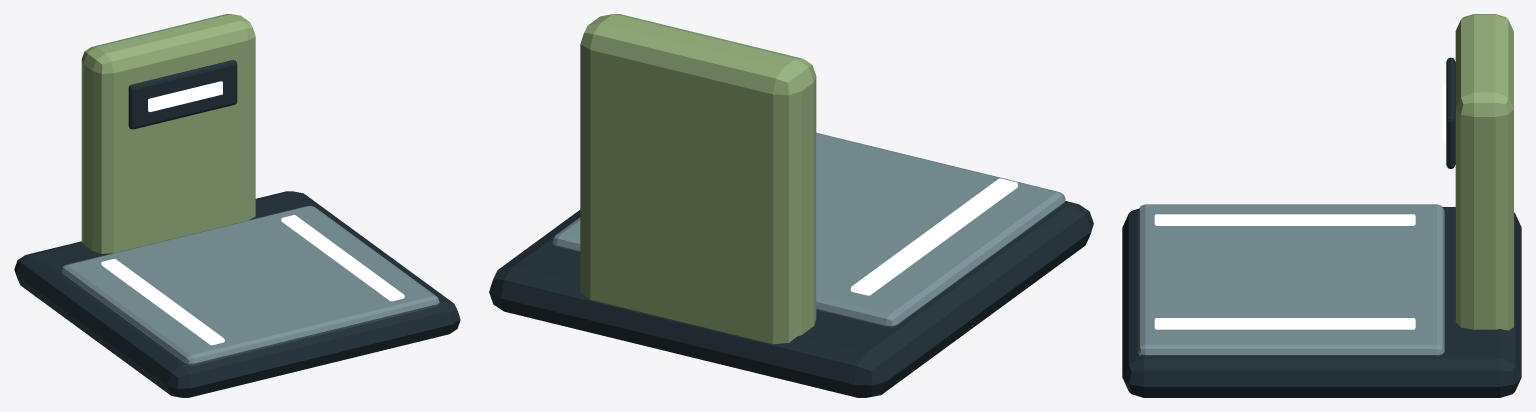
Rendered from prop_charging_dock.glb.
3 renders of one model, left to right at view 1: azimuth 30°, elevation 25°; view 2: azimuth 150°, elevation 25°; view 3: azimuth 270°, elevation 25°, orthographic. The views are drawn at different scales.
Parts seen in each view (by area): view 1: dock_pillar, dock_surface, dock_base, dock_display, charge_strip.001, charge_strip, charge_status; view 2: dock_pillar, dock_base, dock_surface, charge_strip; view 3: dock_surface, dock_base, dock_pillar, charge_strip, charge_strip.001, dock_display.
Part boxes in pixels (left/top/right/bottom): dock_pillar: left=81, top=14, right=255, bottom=253; dock_surface: left=61, top=206, right=439, bottom=365; dock_base: left=14, top=191, right=460, bottom=397; dock_display: left=128, top=60, right=237, bottom=129; charge_strip.001: left=281, top=215, right=404, bottom=301; charge_strip: left=101, top=259, right=224, bottom=345; charge_status: left=148, top=81, right=222, bottom=111; dock_pillar: left=580, top=14, right=816, bottom=344; dock_base: left=489, top=201, right=1093, bottom=397; dock_surface: left=552, top=132, right=1065, bottom=327; charge_strip: left=850, top=178, right=1017, bottom=295; dock_surface: left=1137, top=204, right=1444, bottom=356; dock_base: left=1122, top=207, right=1521, bottom=397; dock_pillar: left=1455, top=14, right=1513, bottom=330; charge_strip: left=1154, top=214, right=1415, bottom=225; charge_strip.001: left=1154, top=318, right=1415, bottom=329; dock_display: left=1446, top=57, right=1455, bottom=168.
Bounding box in the file's own units: 1.3 × 0.965 × 1.3.
